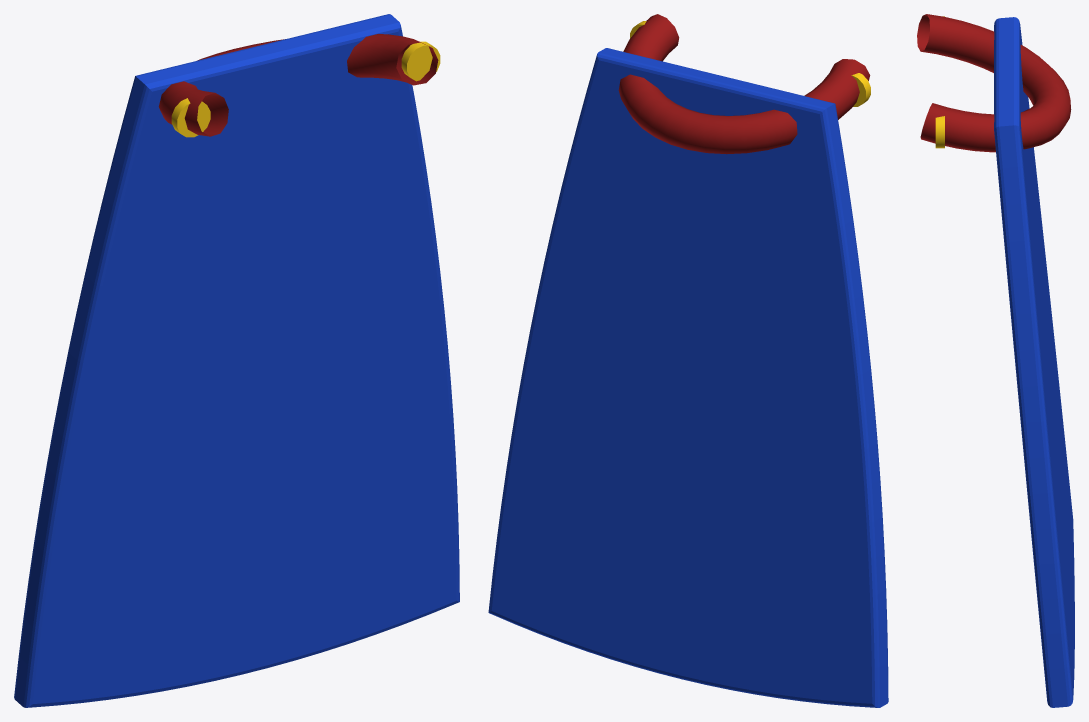
Rendered from traveler.glb.
3 renders of one model, left to right at view 1: azimuth 30°, elevation 25°; view 2: azimuth 150°, elevation 25°; view 3: azimuth 270°, elevation 25°, orthographic. The views are drawn at different scales.
Parts seen in each view (by area): view 1: cape_cloth, cape_collar, clasp_1, clasp_-1; view 2: cape_cloth, cape_collar; view 3: cape_cloth, cape_collar, clasp_1.
Part boxes in pixels (x1,y1,x2,y2): cape_cloth: (14,14,459,707); cape_collar: (158,34,438,136); clasp_1: (401,41,440,81); clasp_-1: (171,98,210,137); cape_cloth: (488,48,888,707); cape_collar: (618,14,870,154); cape_cloth: (994,17,1074,707); cape_collar: (917,14,1071,152); clasp_1: (935,116,944,148).
Size of the model in its own units: 0.6369 by 0.9197 by 0.2296.
